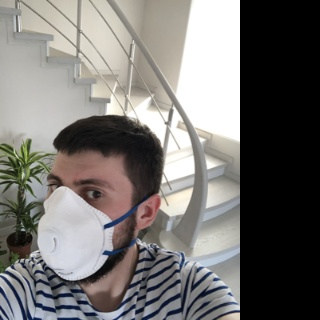with_mask: (37, 168, 125, 287)
